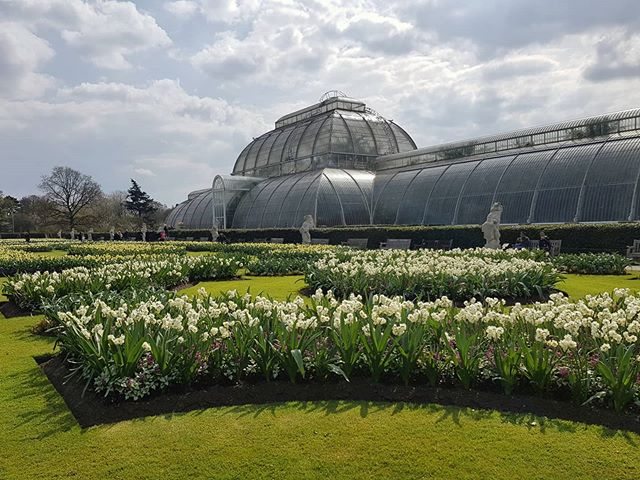building: (177, 92, 640, 240)
flowers: (59, 286, 640, 370), (3, 246, 228, 303), (327, 246, 559, 292)
sky: (1, 1, 622, 119)
tree: (28, 165, 105, 233)
